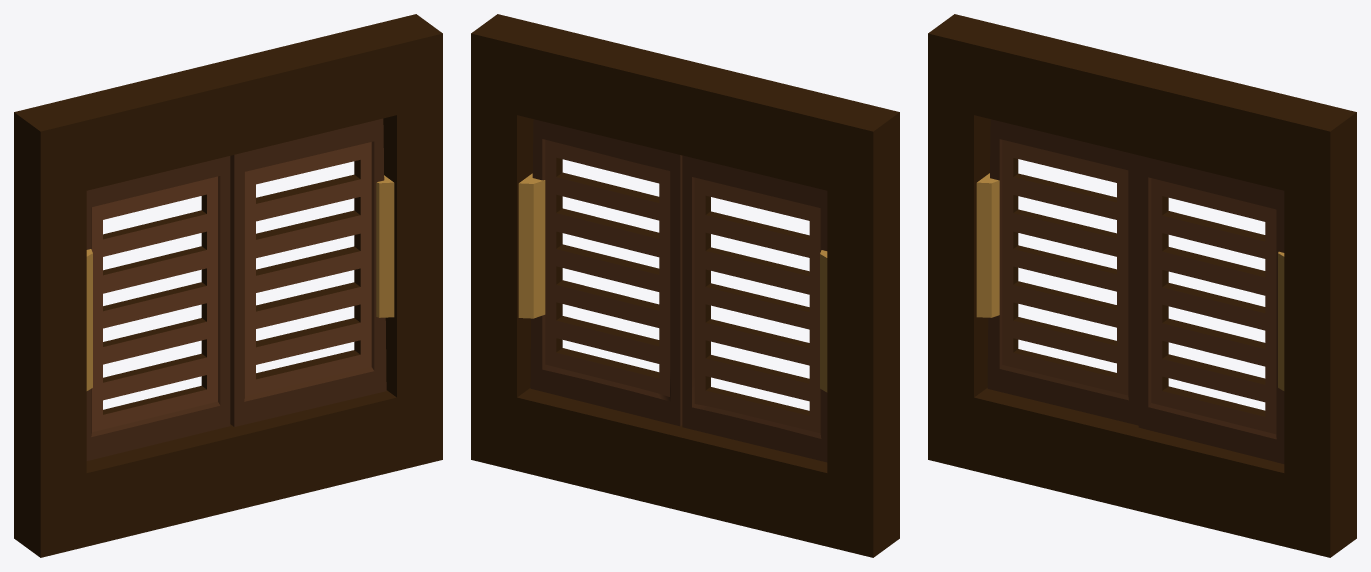
The model's file is Wooden_Window_Closed.fbx.
The picture shows the model from 3 angles, left to right: view 1: azimuth 30°, elevation 25°; view 2: azimuth 150°, elevation 25°; view 3: azimuth 330°, elevation 25°; orthographic projection.
Visible parts, largest first — view 1: Out_Door; view 2: Out_Door; view 3: Out_Door.
Part boxes in pixels (x1,y1,x2,y2): Out_Door: (14,14,442,557); Out_Door: (471,14,899,557); Out_Door: (928,14,1356,557).
Bounding box in the file's own units: 200 × 203 × 22.97.
